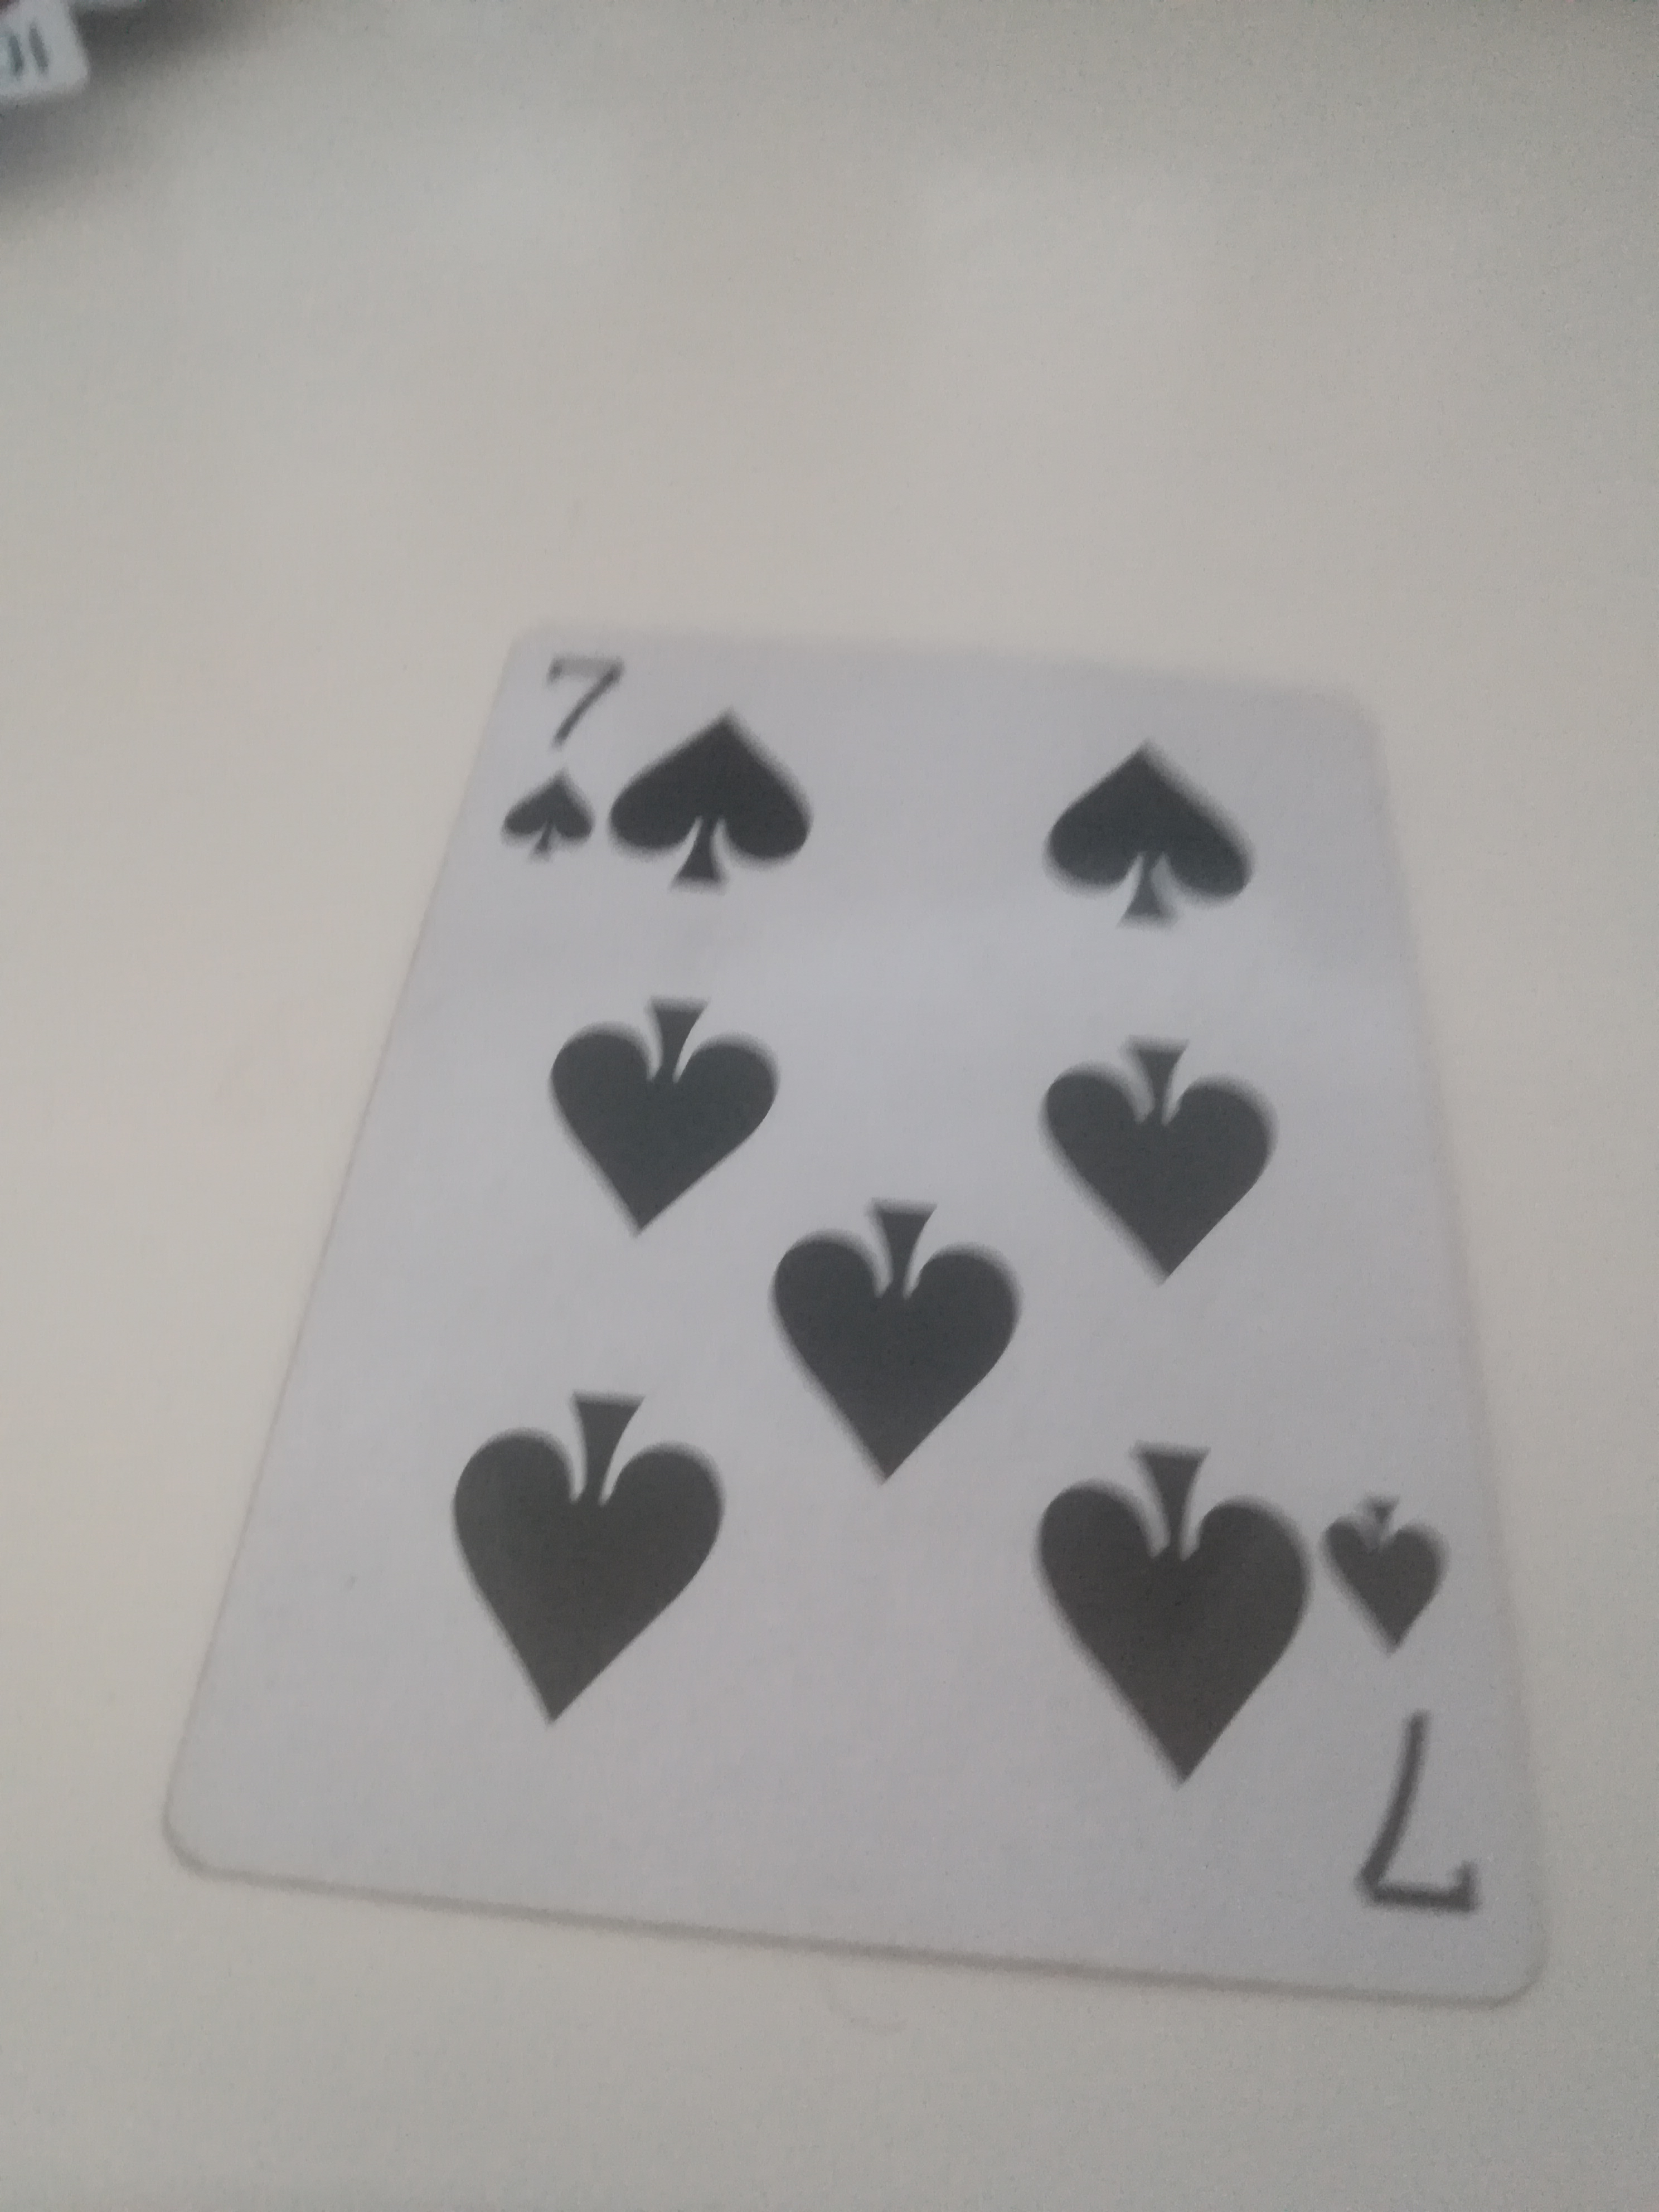7S: (166, 611, 1574, 2027)
